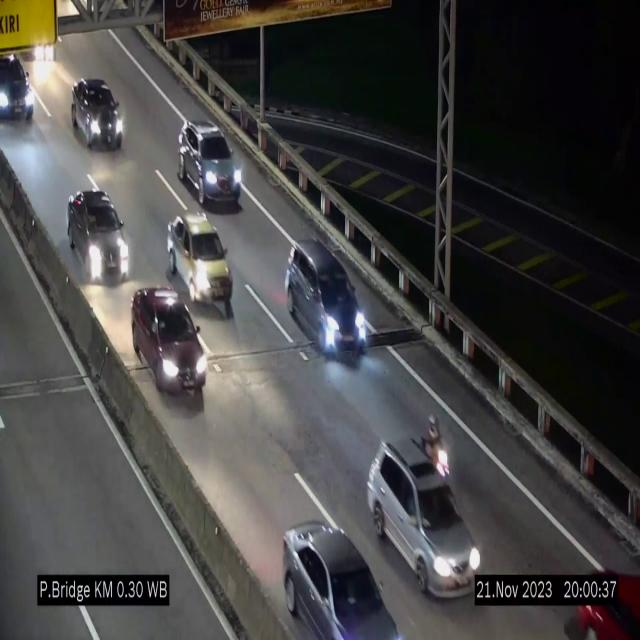Car: (368, 432, 482, 598), (284, 522, 406, 640), (285, 240, 368, 356), (131, 284, 209, 402), (562, 544, 640, 640), (62, 184, 132, 286), (168, 213, 232, 305), (178, 118, 243, 205), (69, 74, 121, 154), (0, 54, 36, 126)
Motorcycle: (424, 408, 452, 487)
